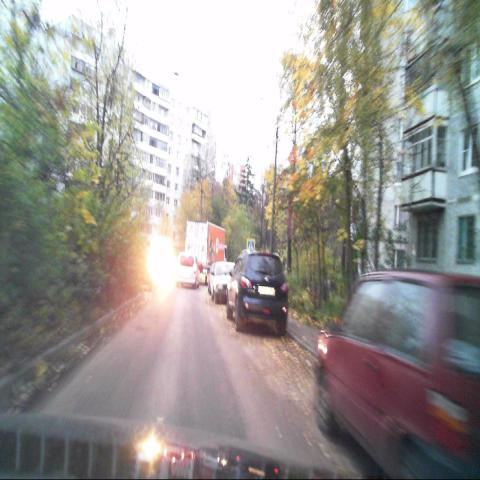5_19_1: (246, 238, 255, 253)
